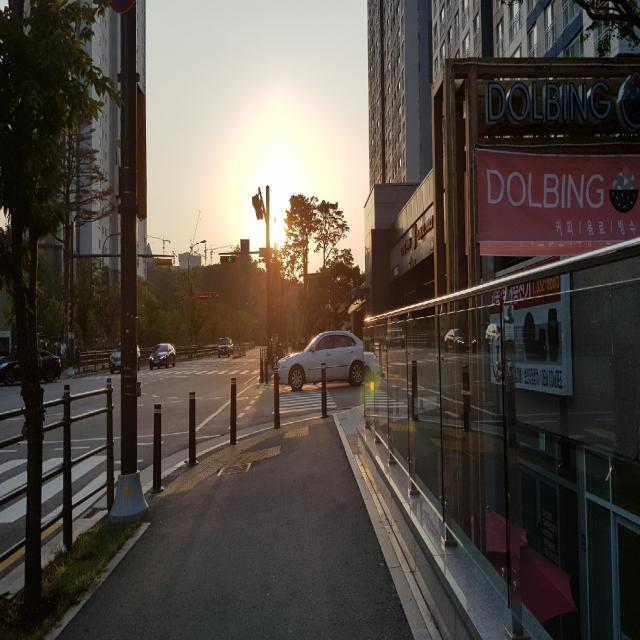횡단보도: (0, 448, 118, 524), (270, 383, 337, 415), (155, 371, 257, 378)
